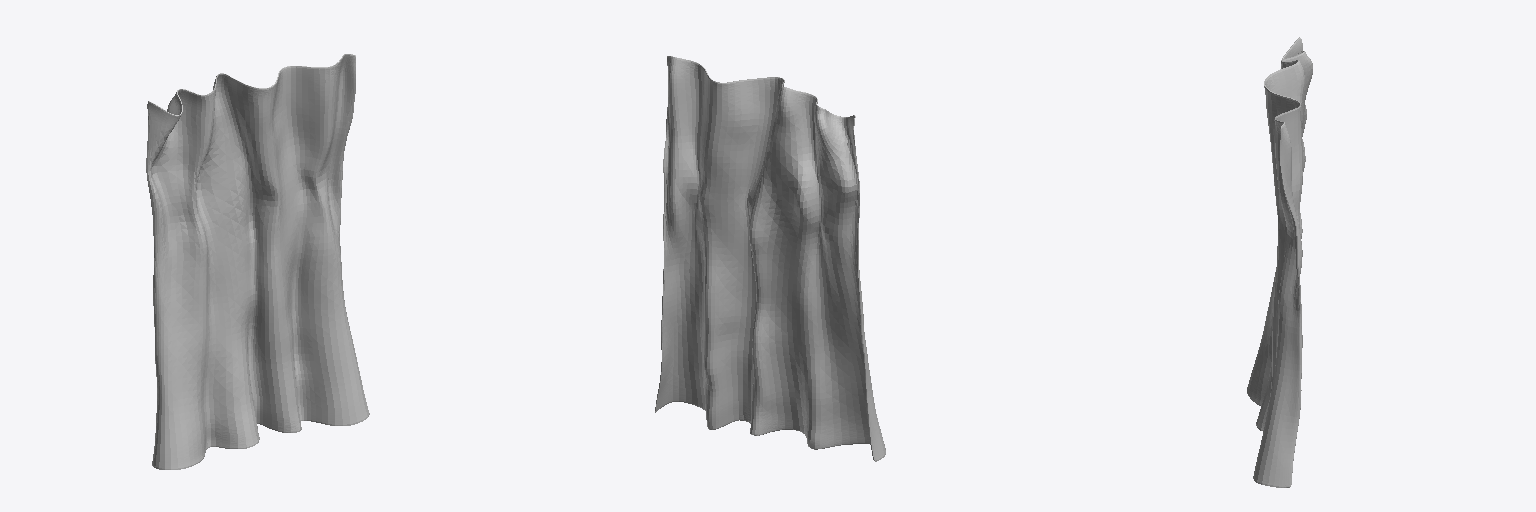
Rendered from SM_Curtain_LowPoly_01.OBJ.
The picture shows the model from 3 angles: view 1: azimuth 30°, elevation 25°; view 2: azimuth 150°, elevation 25°; view 3: azimuth 270°, elevation 25°; orthographic projection.
Visible parts, largest first — view 1: Group1; view 2: Group1; view 3: Group1.
Boxes of the visible parts, <box> form: Group1: <box>146,54,369,469</box>; Group1: <box>655,56,885,461</box>; Group1: <box>1247,37,1312,487</box>.
Size of the model in its own units: 2.05 by 3.29 by 0.547.